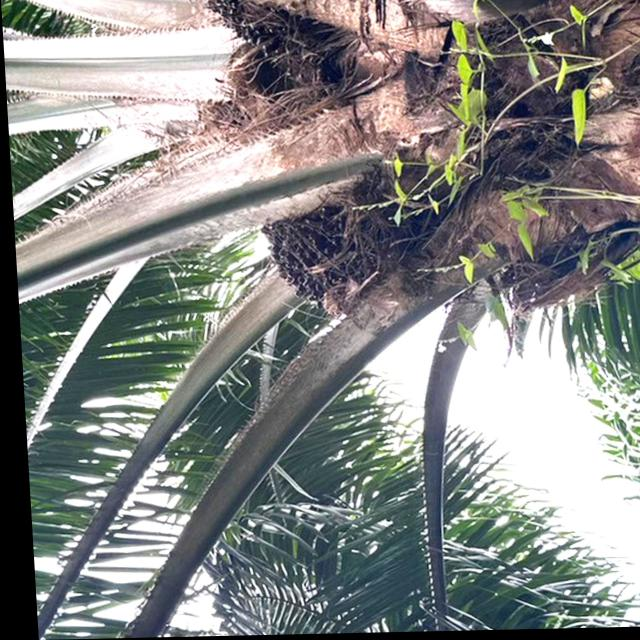ripe: (249, 201, 364, 311)
